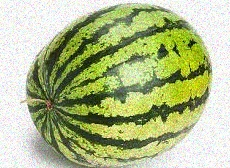watermelon: (24, 2, 213, 168)
